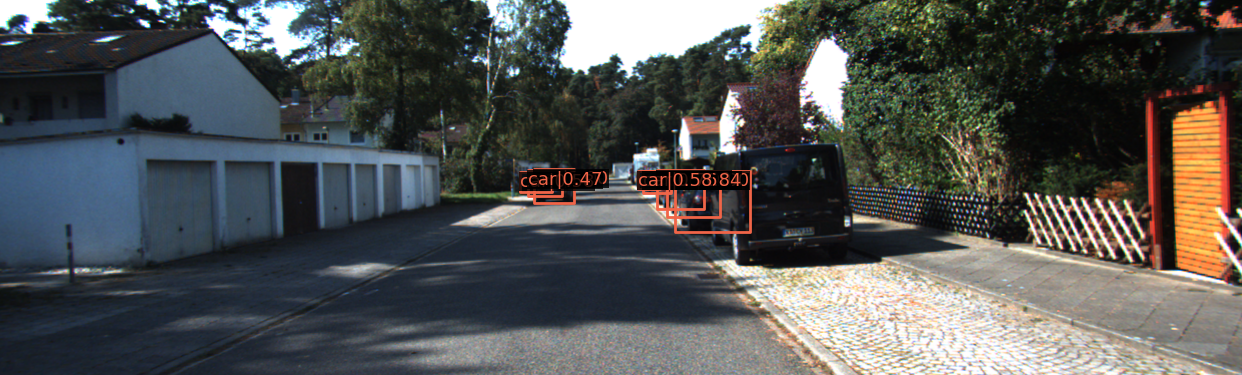car: (676, 172, 759, 234), (669, 173, 728, 219), (536, 173, 575, 205)
